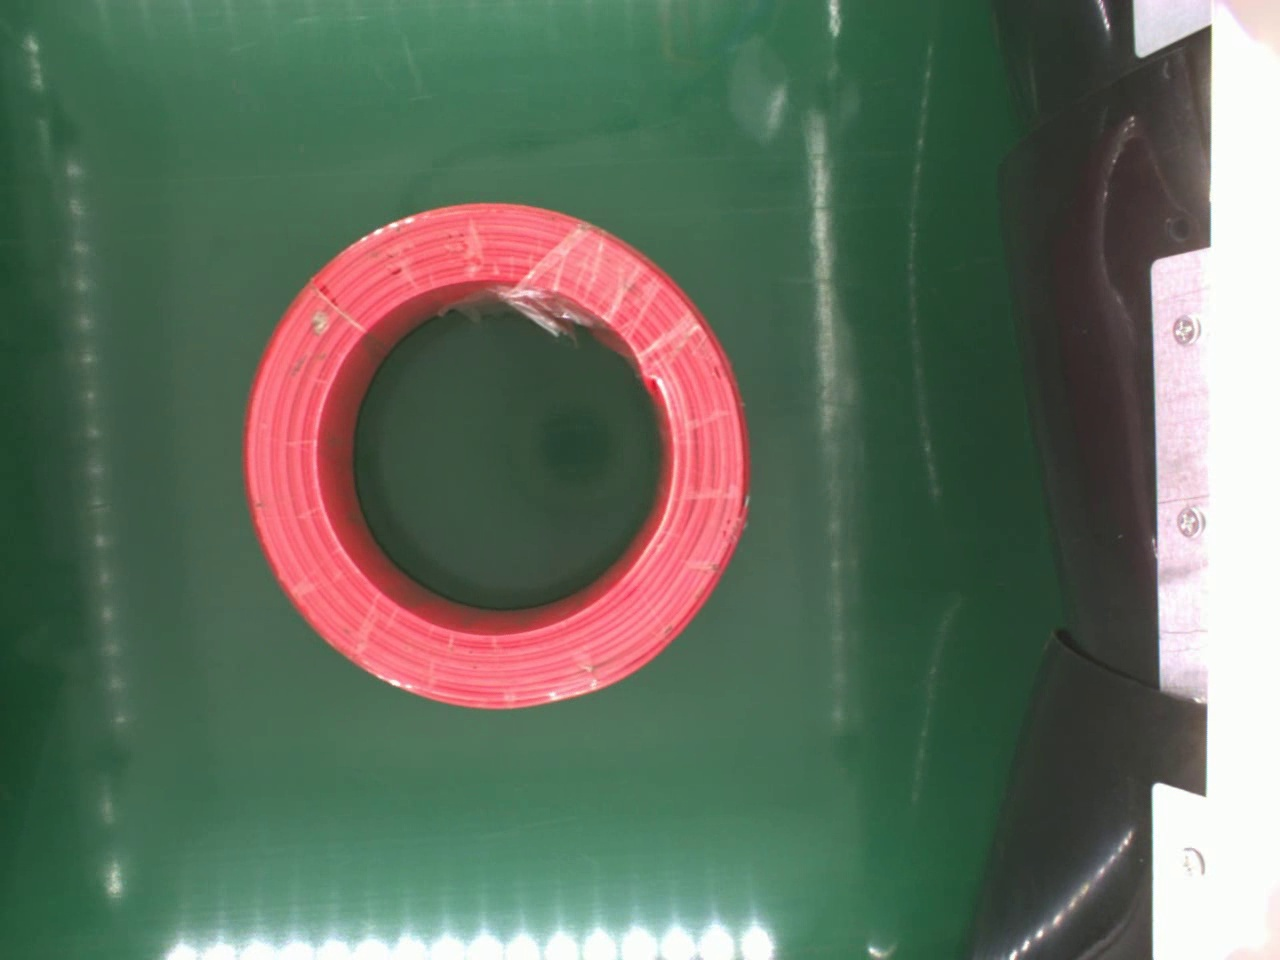red: (239, 201, 752, 710)
